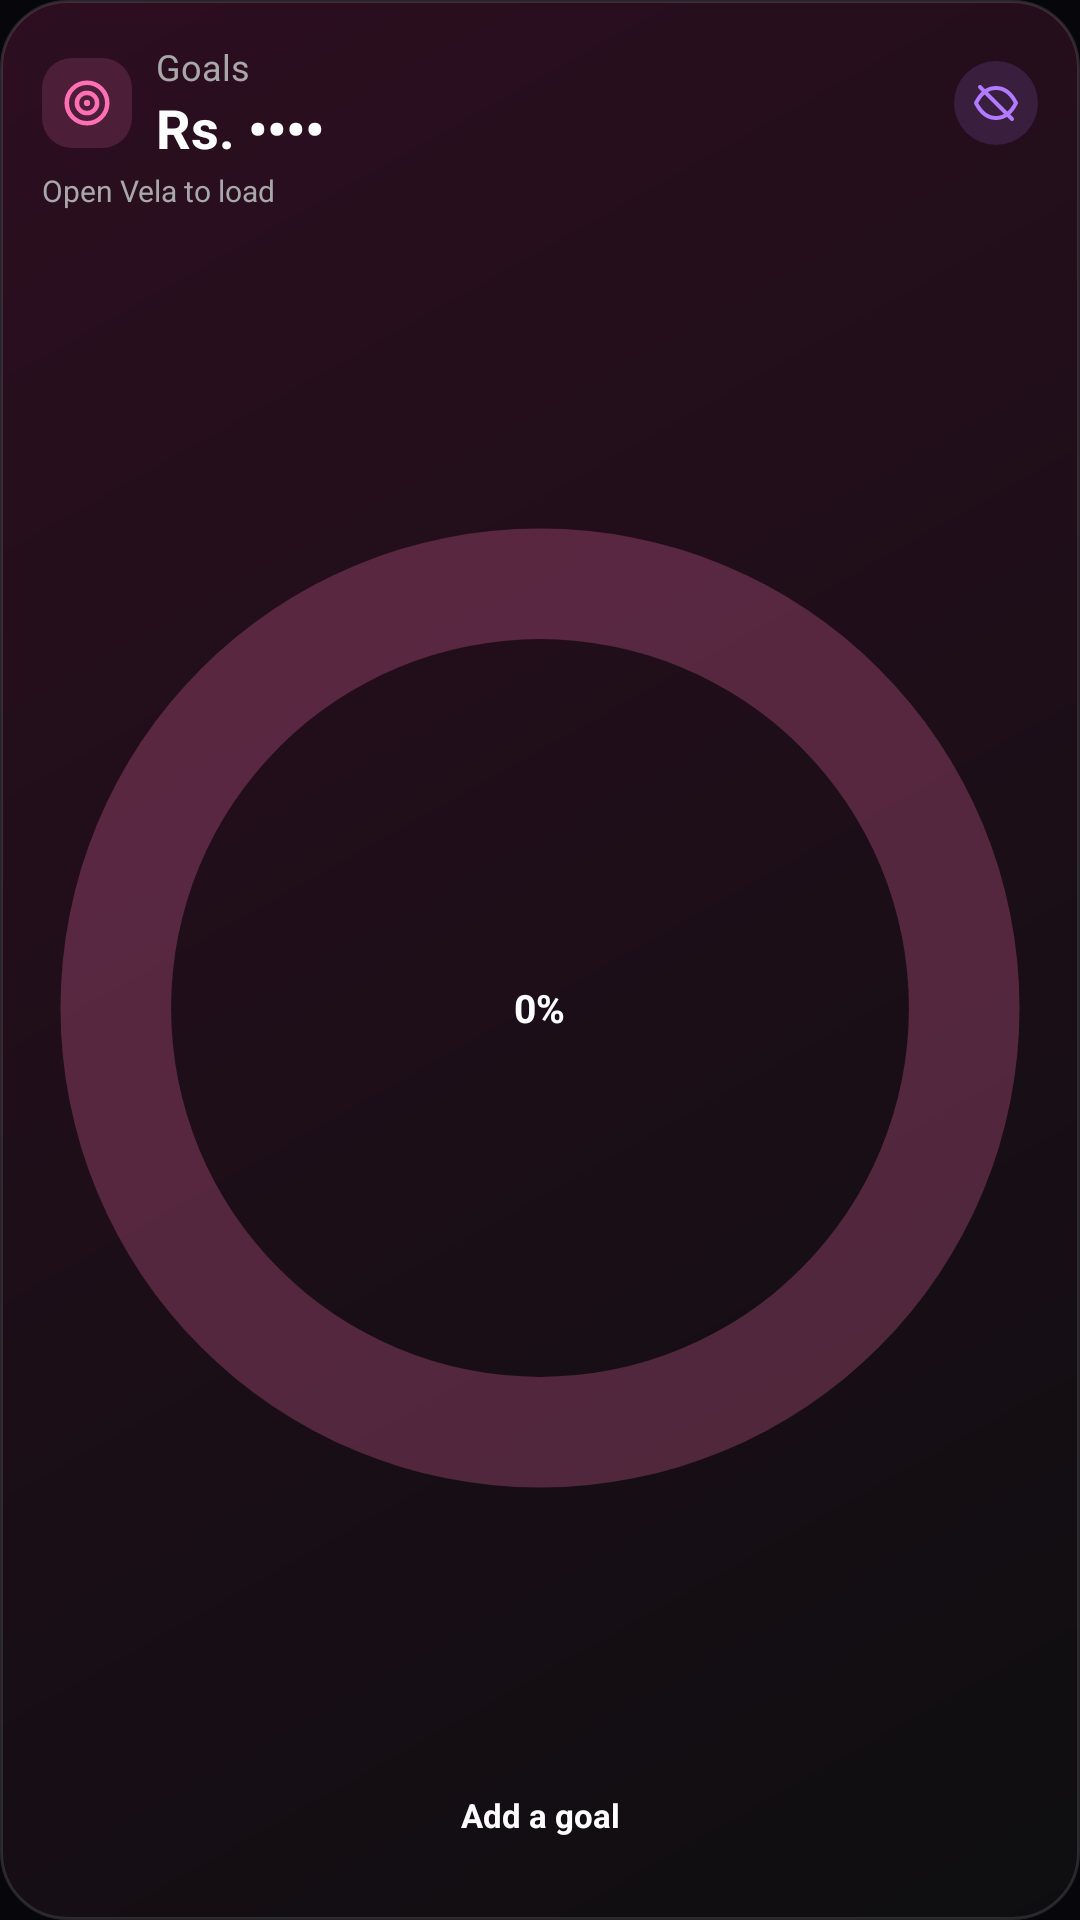

Where icons sit on this 1080px x 1920px app screen, as [left=x1, top=y1, right=x2, bottom=y2]:
Show amounts: [left=954, top=61, right=1038, bottom=145]
